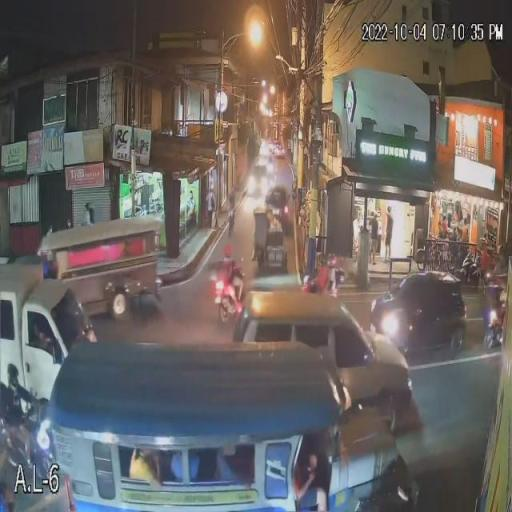helmet: (215, 240, 240, 261)
motorcycle: (215, 256, 247, 330)
rider: (218, 258, 245, 317)
